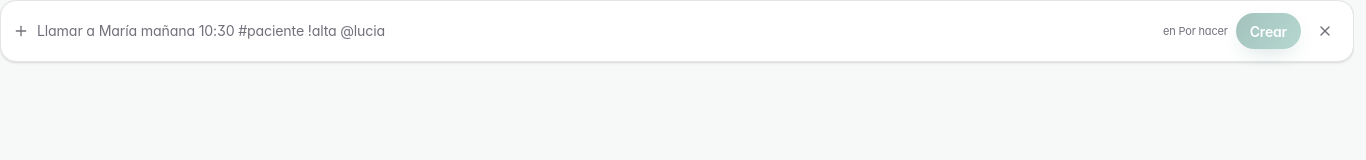
Test case: QuickAdd — vista previa › resuelve el alias por email además de por nombre
The width and height of the screenshot is (1366, 160).
Step 1. Type "Repasar agenda @ana" into the field with placeholder "Llamar a María mañana 10:30 #paciente !alta @lucia" → {"x": 596, "y": 31}, box x1=37 y1=20 x2=1155 y2=42
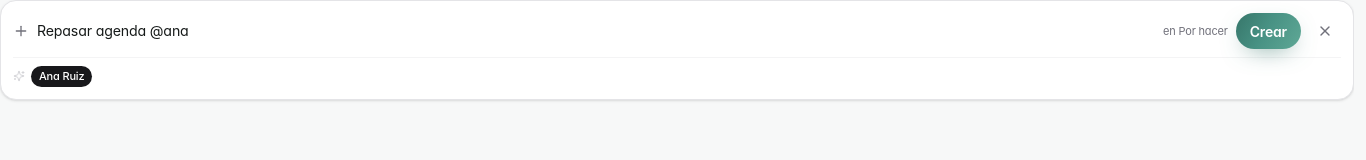
Result: the text "Ana Ruiz" is shown at x1=31 y1=66 x2=92 y2=86
